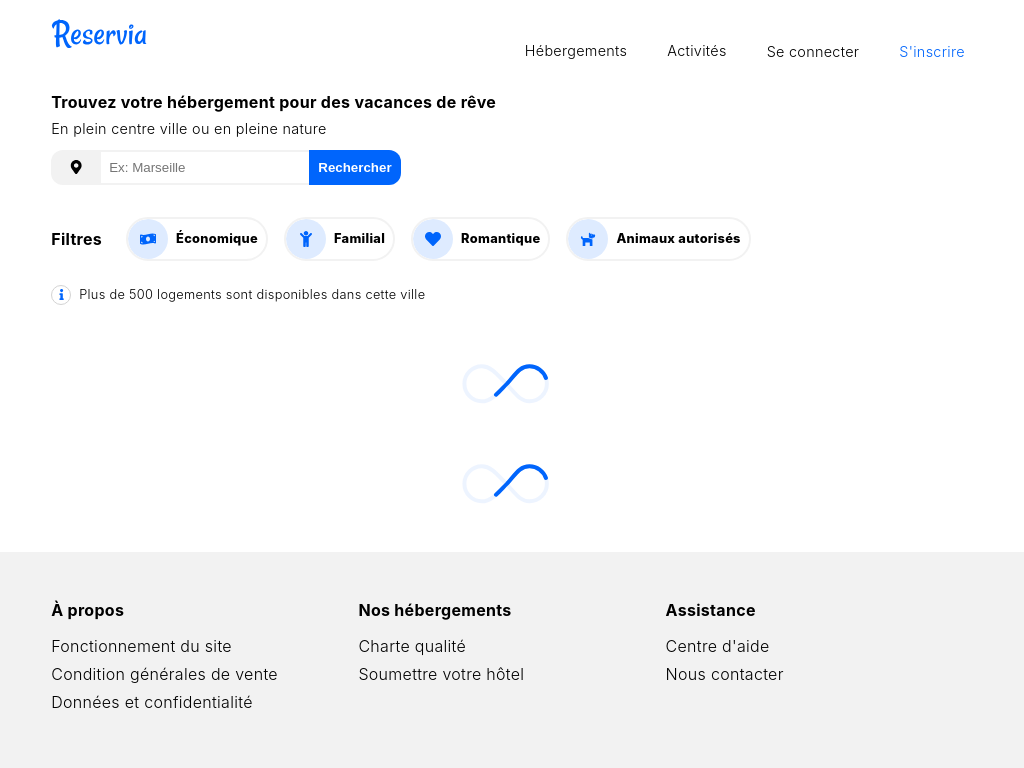
Test: Affichage des modals d'inscription et de connexion › Affiche de la modal d'inscription
Click the text with class "subscribe-link" at (932,52), box [899,43,965,60]
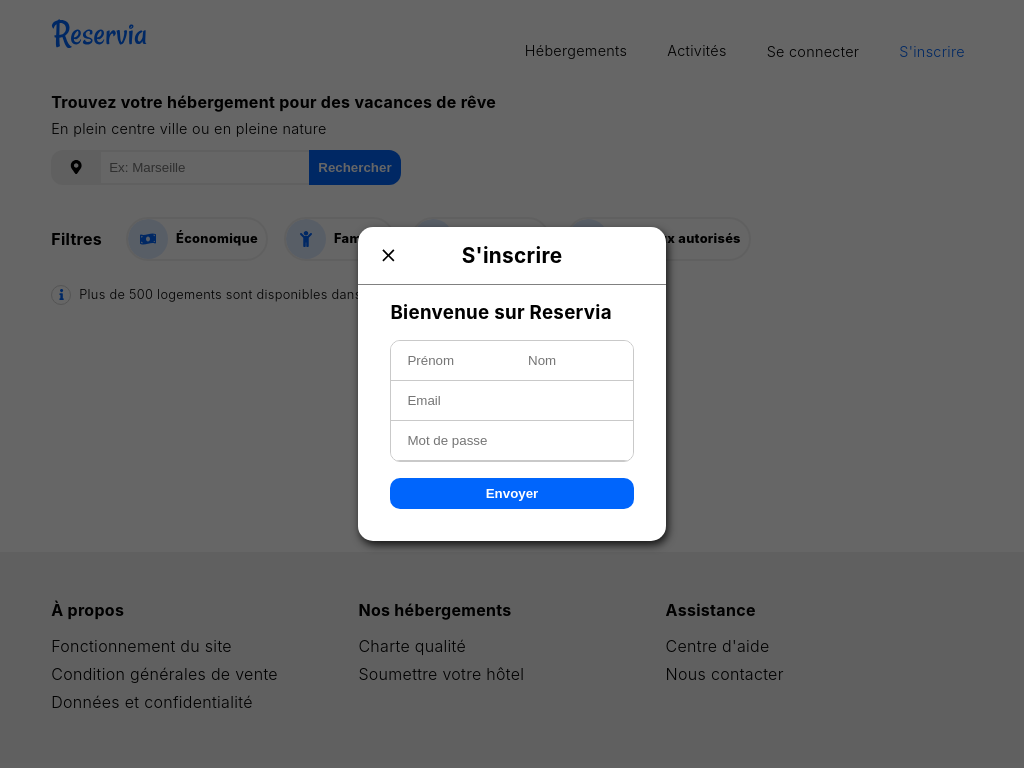
expect the heading with class "title-modal-subscribe" reads "S'inscrire": met, box [462,243,563,268]
expect the heading with class "title-modal-welcome" reads "Bienvenue sur Reservia": met, box [390,301,633,324]
